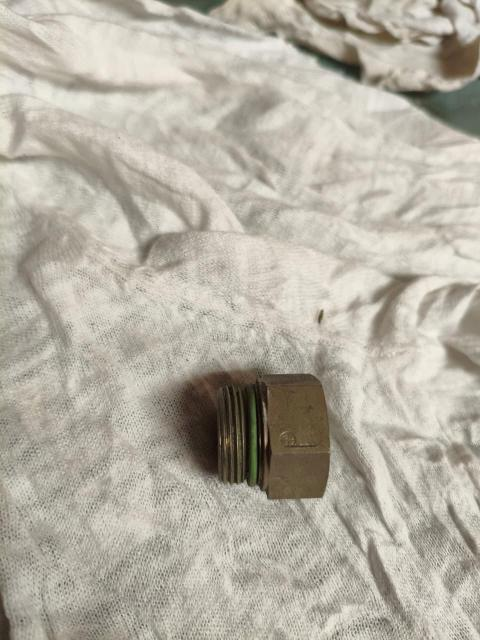Metal: (210, 368, 332, 503)
